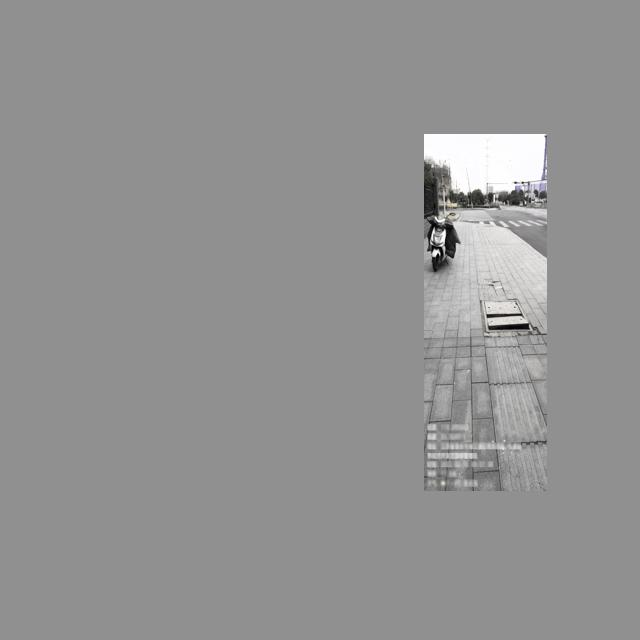uncovered: (481, 298, 533, 334)
